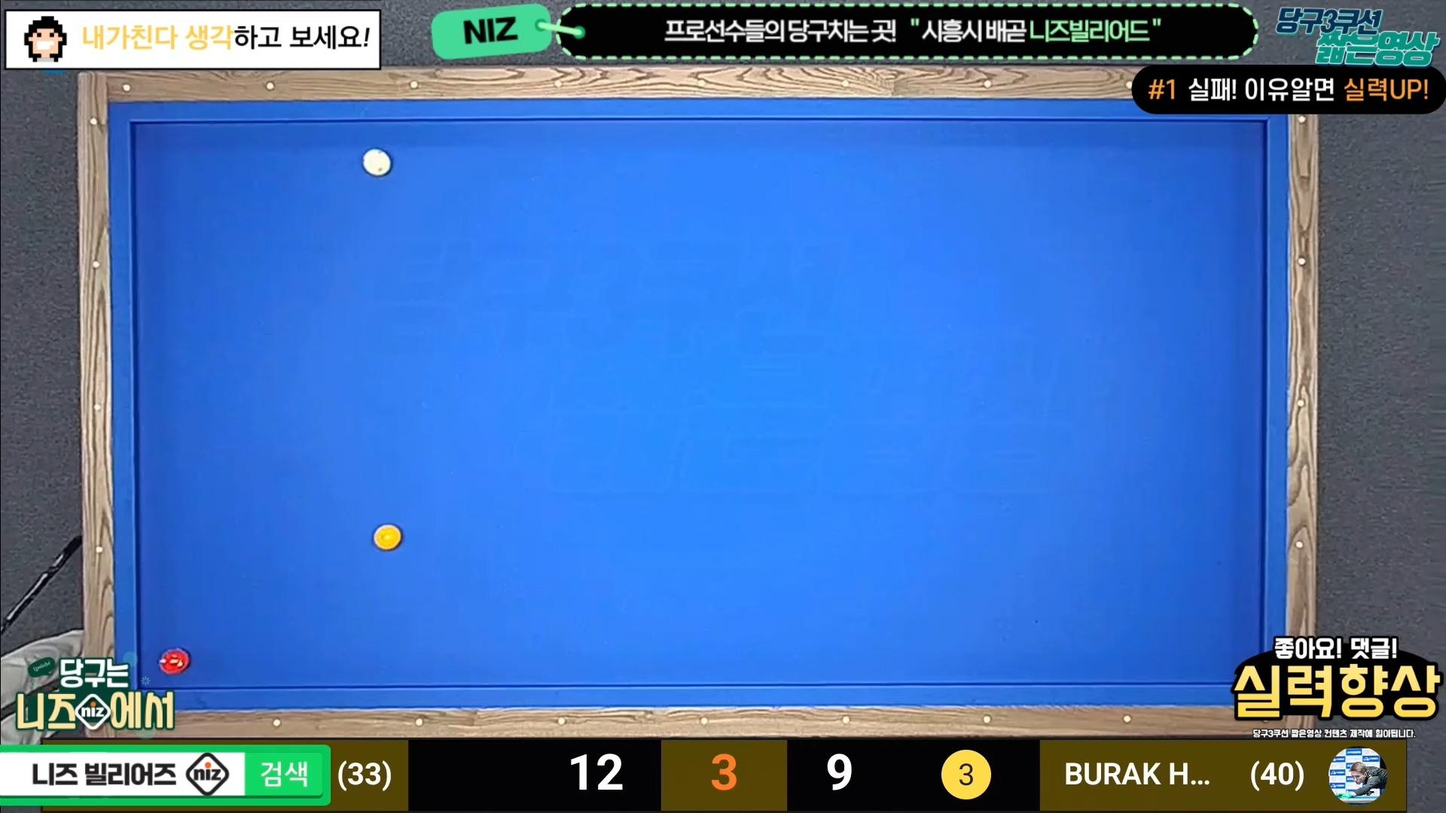-billiard-ball: (371, 523, 402, 552), (362, 148, 392, 177)
Red: (158, 651, 193, 677)
White: (362, 148, 397, 177)
Yellow: (373, 524, 407, 552)
